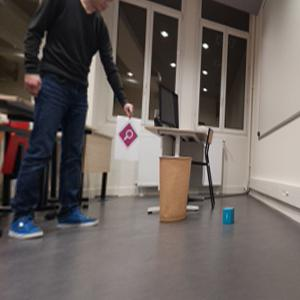search: (119, 123, 139, 147)
